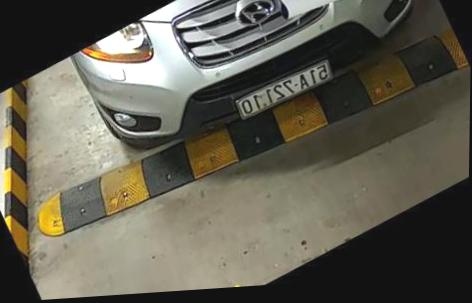License_Plate: (235, 51, 332, 123)
